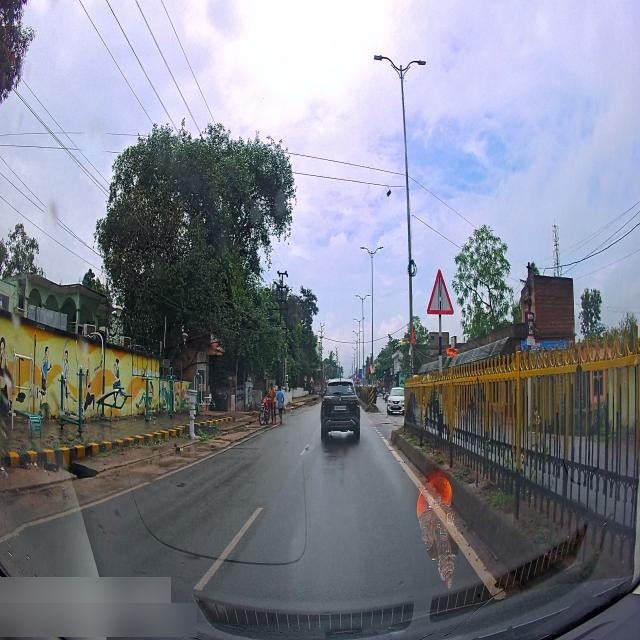pothole: (62, 460, 97, 483)
